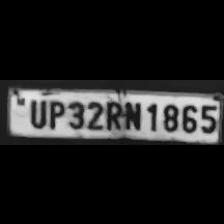1: (141, 99, 159, 131)
2: (84, 97, 104, 129)
3: (65, 96, 85, 128)
5: (198, 100, 218, 132)
6: (178, 99, 198, 133)
8: (160, 100, 180, 132)
N: (122, 97, 140, 130)
P: (44, 97, 64, 129)
R: (104, 96, 122, 130)
U: (26, 96, 46, 128)
